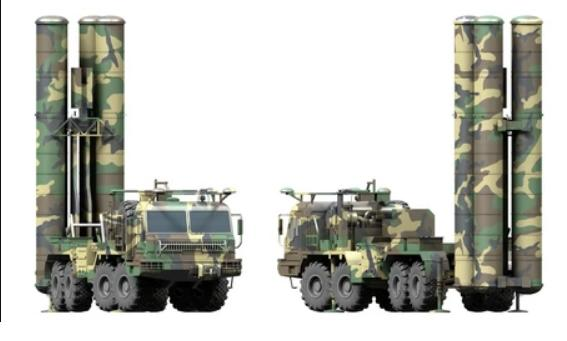MIL_SAM_TEL: (271, 14, 548, 316), (31, 12, 242, 318)
